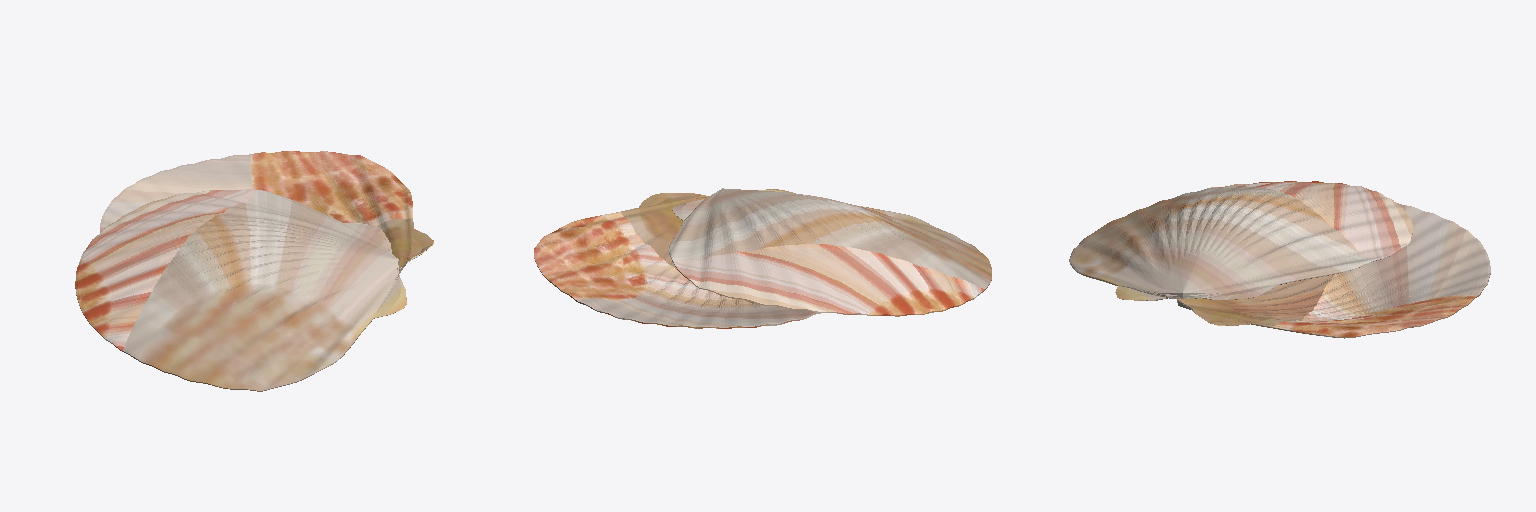
3 views of the same model, side by side, from view 1: azimuth 30°, elevation 25°; view 2: azimuth 150°, elevation 25°; view 3: azimuth 270°, elevation 25° (orthographic).
Visible parts, largest first — view 1: seashell_obj:Mesh; view 2: seashell_obj:Mesh; view 3: seashell_obj:Mesh.
Boxes of the visible parts, x1=… form: seashell_obj:Mesh: x1=75, y1=151, x2=433, y2=391; seashell_obj:Mesh: x1=534, y1=188, x2=991, y2=328; seashell_obj:Mesh: x1=1069, y1=181, x2=1490, y2=338.
Size of the model in its own units: 103 by 20.88 by 105.
1 materials, 1 textured.